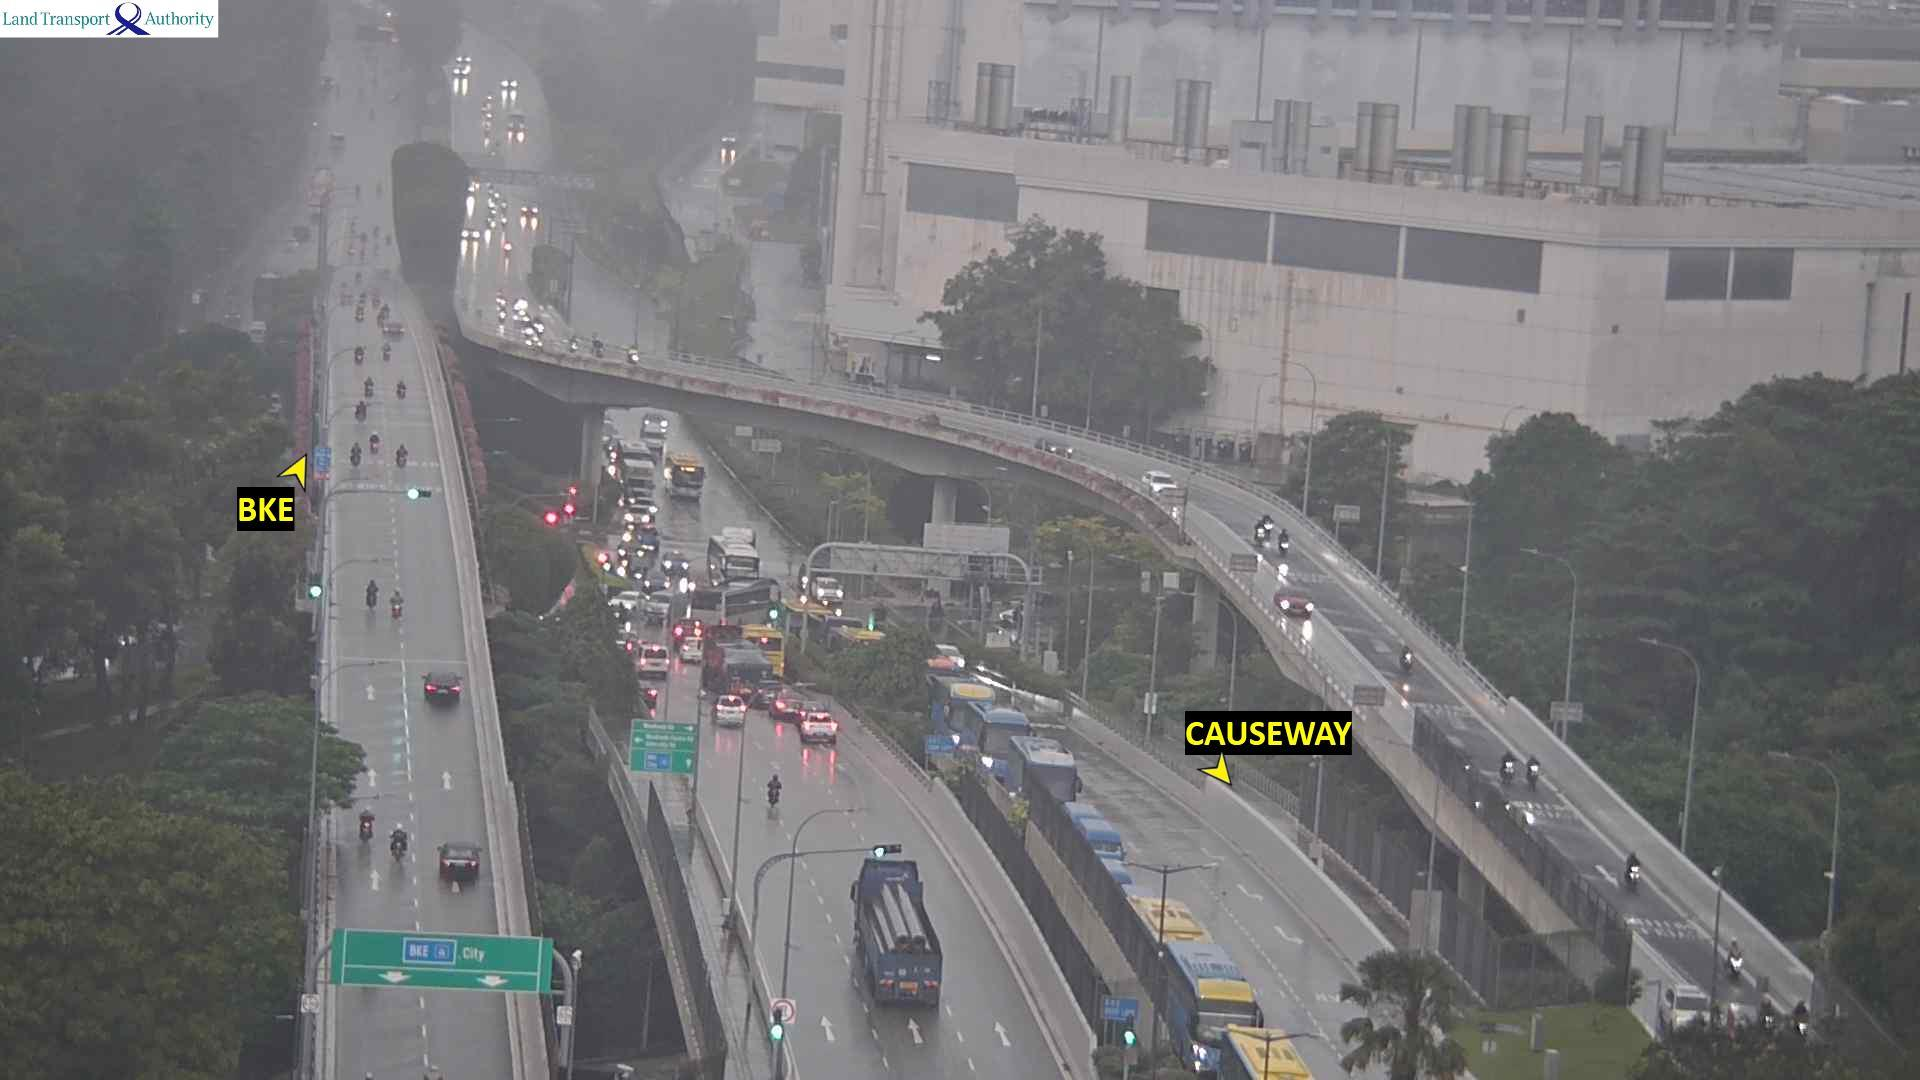vehicle-causeway-johor: (1162, 947, 1270, 1043), (1220, 1029, 1317, 1080), (1009, 738, 1073, 802), (1125, 898, 1213, 944), (932, 675, 992, 737), (967, 708, 1033, 752), (1063, 804, 1121, 852), (1664, 985, 1708, 1027), (1276, 588, 1315, 618), (1146, 473, 1175, 498), (1622, 848, 1639, 887), (1499, 749, 1516, 786), (816, 576, 840, 600), (1526, 756, 1540, 793), (1043, 440, 1069, 459), (496, 293, 506, 322), (1279, 526, 1290, 553), (591, 335, 603, 356), (1259, 518, 1267, 546), (629, 343, 640, 363), (1402, 649, 1408, 675), (516, 311, 529, 324), (570, 335, 578, 351)
vehicle-causeway-singapore: (852, 860, 939, 1001), (708, 649, 779, 695), (439, 848, 475, 882), (803, 719, 836, 745), (423, 680, 455, 703), (715, 698, 742, 721), (770, 698, 795, 720), (764, 774, 779, 807), (640, 657, 666, 675), (713, 709, 741, 725), (359, 815, 371, 843), (364, 584, 375, 613), (394, 828, 405, 856), (388, 320, 402, 336), (402, 380, 415, 396), (351, 443, 360, 465), (396, 444, 406, 463), (360, 352, 373, 367), (382, 343, 392, 361), (396, 600, 404, 620), (364, 378, 371, 397), (368, 431, 375, 448)
